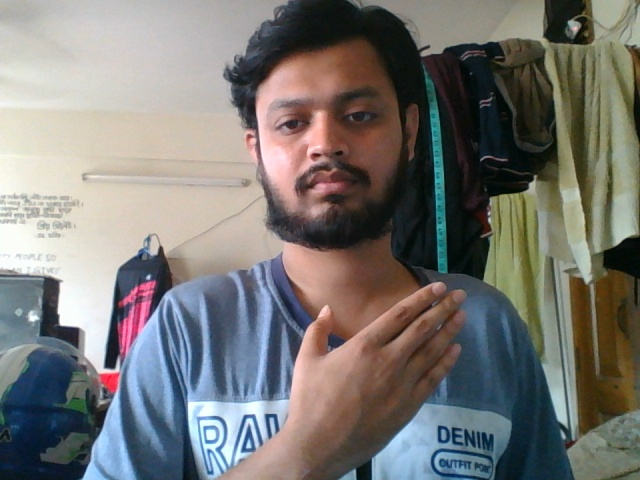ami: (243, 274, 475, 472)
